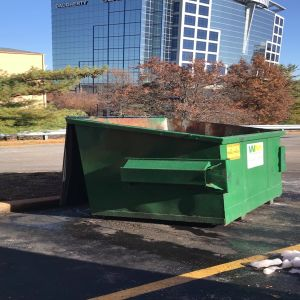Dumpster: (55, 113, 291, 230)
